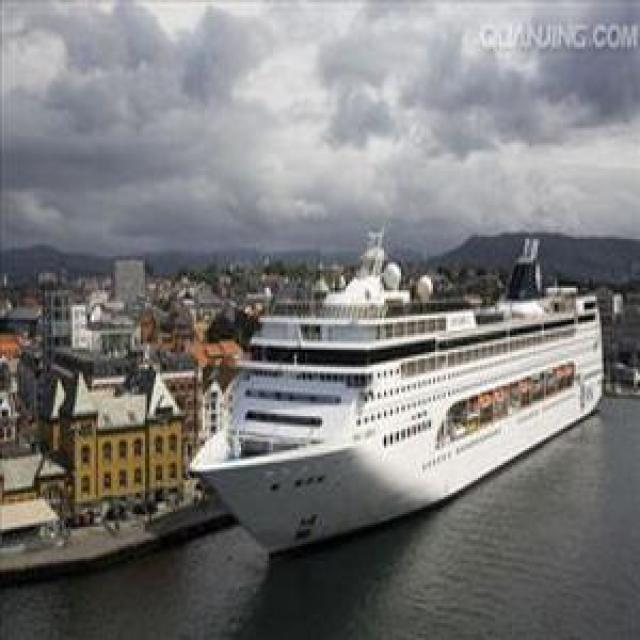passenger ship: (202, 242, 630, 568)
